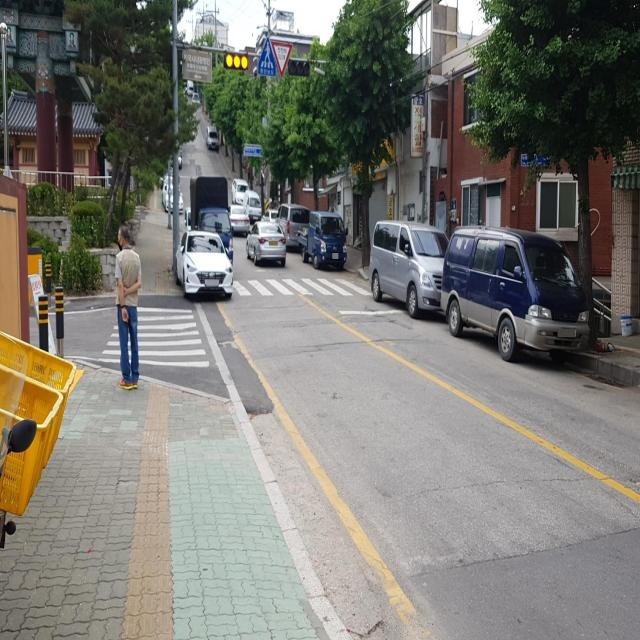횡단보도: (99, 305, 210, 369), (232, 275, 371, 300)
